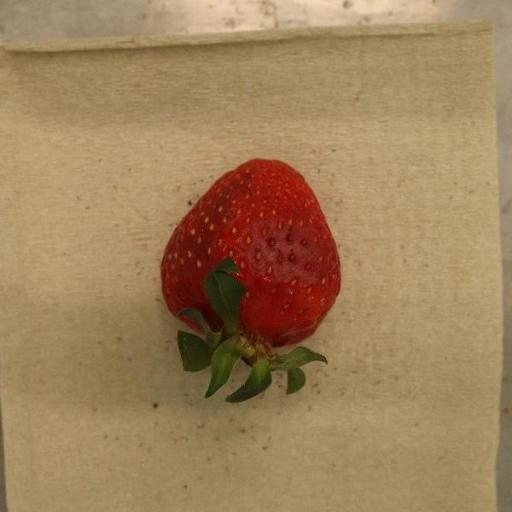Strawberry: (161, 159, 342, 404)
